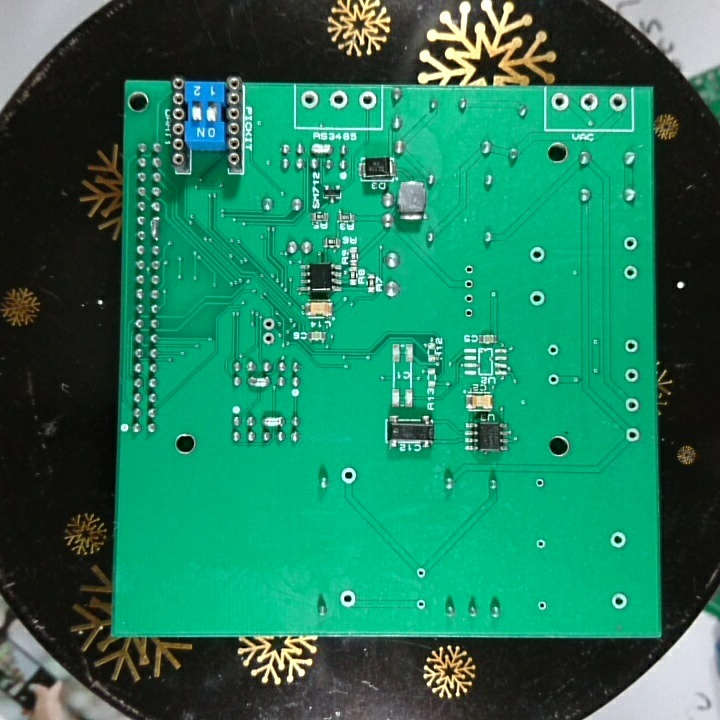F: (549, 90, 571, 115), (526, 243, 548, 268), (299, 89, 322, 110), (357, 89, 378, 112), (608, 91, 628, 115), (328, 88, 348, 112), (580, 91, 601, 113), (337, 587, 358, 609), (608, 589, 628, 612), (338, 465, 359, 486), (528, 288, 548, 310), (608, 529, 629, 549), (622, 366, 642, 385), (622, 395, 642, 414), (623, 425, 643, 444), (260, 330, 279, 349), (623, 337, 641, 357), (622, 234, 639, 254), (545, 370, 562, 389), (622, 263, 639, 281), (412, 595, 430, 612), (259, 315, 277, 332), (545, 340, 561, 359), (461, 289, 477, 306), (462, 261, 479, 276), (532, 476, 547, 492), (533, 598, 550, 612), (534, 536, 548, 553), (462, 277, 477, 291), (462, 305, 476, 320), (413, 565, 427, 580)
P: (245, 372, 272, 391), (259, 414, 288, 430), (309, 141, 335, 158), (148, 214, 162, 242)
